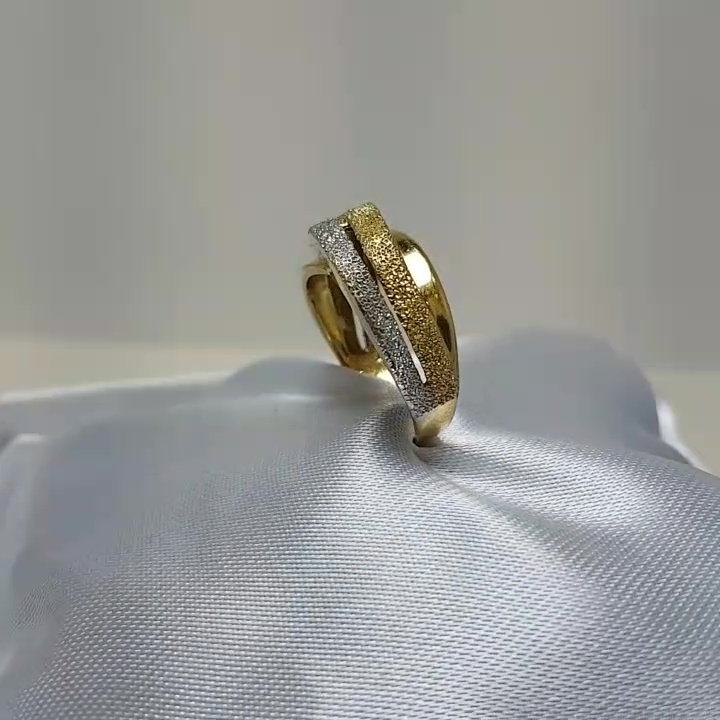Ring 5: (276, 180, 478, 472)
